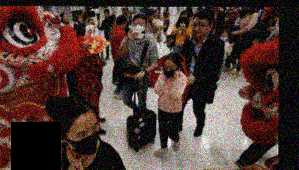with_mask: (67, 119, 101, 155), (161, 60, 178, 79), (132, 20, 146, 37), (85, 27, 97, 45), (220, 34, 229, 42), (88, 21, 96, 30), (181, 13, 188, 21)
without_mask: (190, 18, 210, 36), (154, 10, 160, 18), (62, 13, 68, 20), (78, 15, 84, 22), (104, 11, 111, 17), (163, 6, 167, 11)
